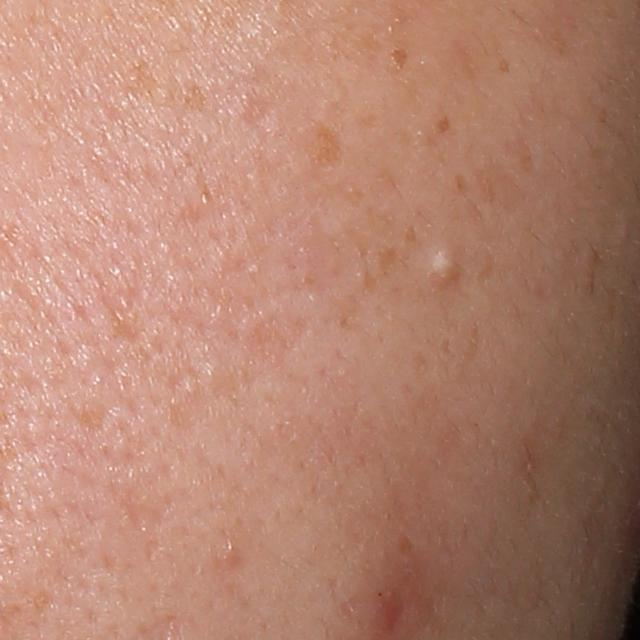comedo: (221, 543, 242, 567)
melasma: (312, 162, 431, 330), (119, 58, 214, 222), (302, 118, 362, 160)
